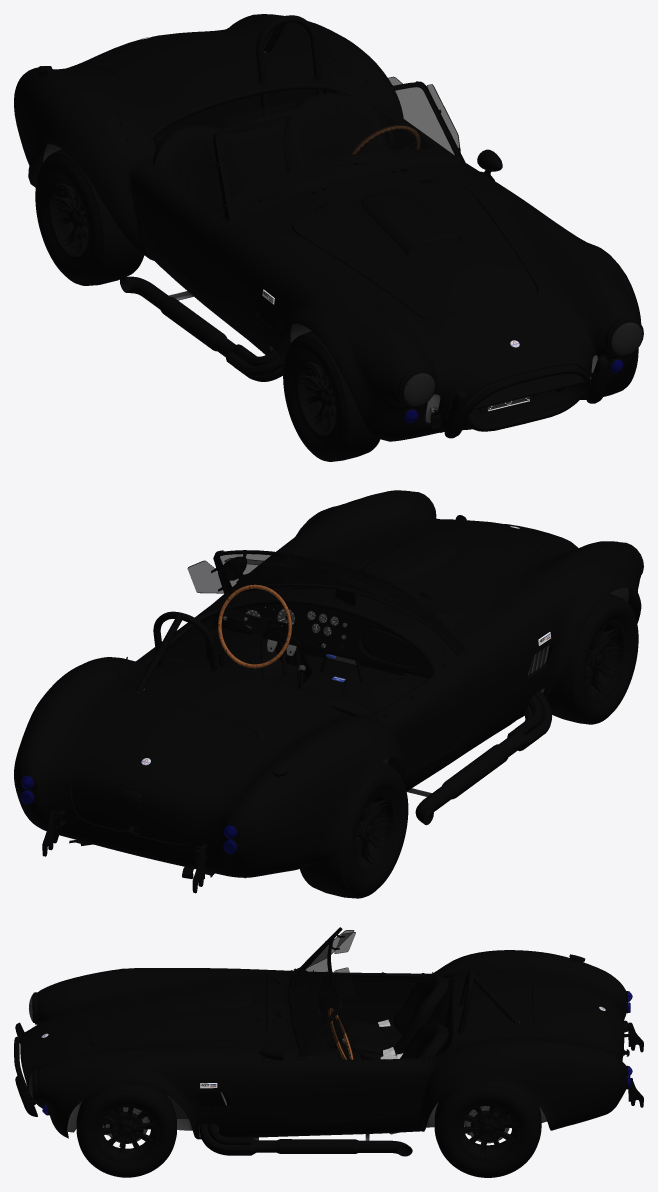
The model's file is shelby-cobra.glb.
3 views of the same model, one above another, from view 1: azimuth 30°, elevation 25°; view 2: azimuth 150°, elevation 25°; view 3: azimuth 270°, elevation 25° (orthographic). The views are drawn at different scales.
Visible parts, largest first — view 1: body_0013, body_0124, body_0106, wheels_0222, body_0084, cabin_0154, cabin_0155, wheels_0221, body_0123, drive_0091, body_0218, wheels_0101 (+16 smaller); view 2: body_0013, body_0218, body_0124, body_0084, wheels_0222, wheels_0221, cabin_0157, body_0106, cabin_0035, drive_0091, body_0123, wheels_0187 (+11 smaller); view 3: body_0013, body_0124, body_0083, wheels_0220, wheels_0219, body_0218, drive_0092, body_0106, wheels_0180, wheels_0177, cabin_0154, body_0123 (+14 smaller).
Boxes of the visible parts, x1,y1,x2,y2 form: body_0013: (14,14,641,441); body_0124: (291,178,537,320); body_0106: (220,86,456,211); wheels_0222: (35,149,144,285); body_0084: (132,160,231,288); cabin_0154: (153,125,257,201); cabin_0155: (283,93,387,172); wheels_0221: (283,331,380,461); body_0123: (356,189,465,255); drive_0091: (120,276,283,381); body_0218: (77,30,257,75); wheels_0101: (216,82,462,217); body_0013: (14,490,641,877); body_0218: (71,701,257,844); body_0124: (292,523,537,613); body_0084: (373,653,471,771); wheels_0222: (300,762,408,898); wheels_0221: (546,594,638,724); cabin_0157: (216,604,432,678); body_0106: (220,554,446,636); cabin_0035: (275,642,428,713); drive_0091: (415,691,552,825); body_0123: (357,536,465,583); wheels_0187: (354,790,397,874); body_0013: (20,950,626,1139); body_0124: (89,976,266,1046); body_0083: (310,1045,428,1121); wheels_0220: (434,1080,541,1177); wheels_0219: (76,1083,176,1177); body_0218: (532,975,624,1060); drive_0092: (200,1124,412,1156); body_0106: (291,936,337,1049); wheels_0180: (455,1103,520,1162); wheels_0177: (94,1104,159,1163); cabin_0154: (373,974,448,1054); body_0123: (163,989,255,1019).
Bounding box in the file's own units: 1.74 × 1.19 × 3.95.
Materials: 26 (17 with a texture image).
